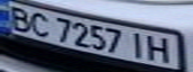2: (69, 19, 90, 48)
5: (87, 22, 109, 52)
7: (48, 15, 75, 43), (103, 26, 127, 55)
B: (3, 3, 36, 32)
C: (24, 9, 54, 38)
H: (145, 34, 175, 64)
I: (127, 29, 151, 60)
